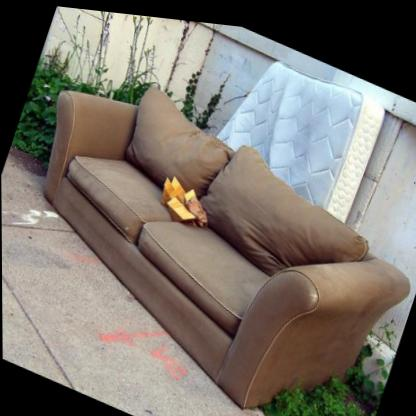Sofa: (0, 39, 416, 416)
